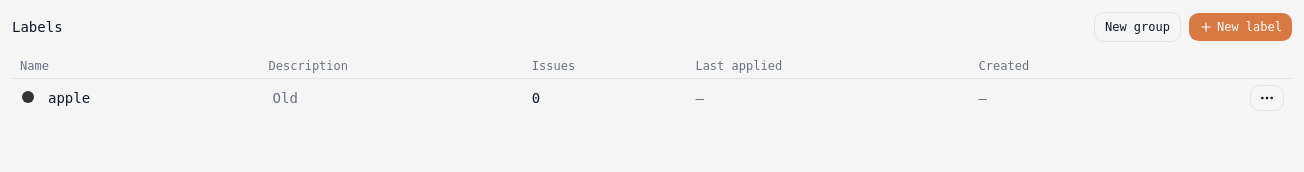
Test: labels settings › clicking the name renames inline with only the name patched
Expected: the text "apple" is shown, [48,90,90,106]
Click the button with aria-label "Rename apple": (69, 98) [44,86,94,110]
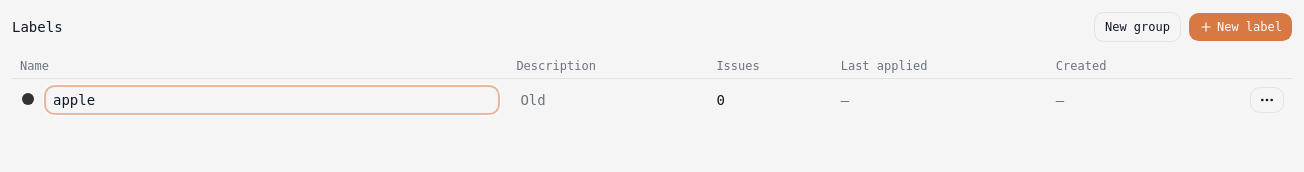
Replace the text in the field named "Label name" with "apricot": (272, 100) [44,85,500,115]
Then press Enter
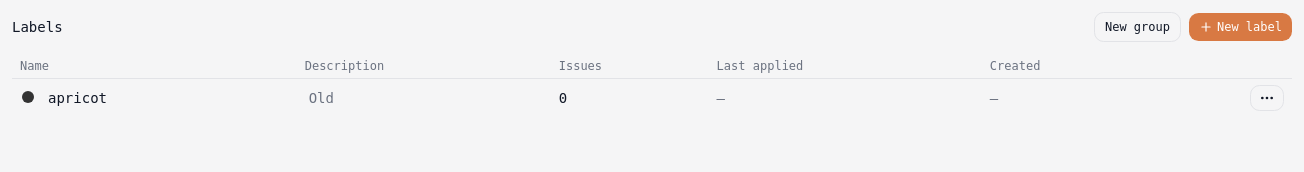
Expected: the button "Old" is shown, [305,86,338,110]
Result: the text "apricot" is shown at [48,90,107,106]
